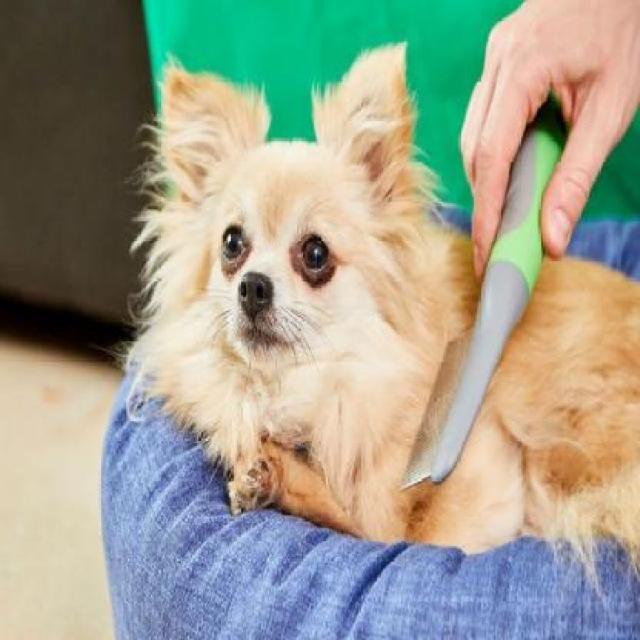animals: (96, 11, 424, 564)
